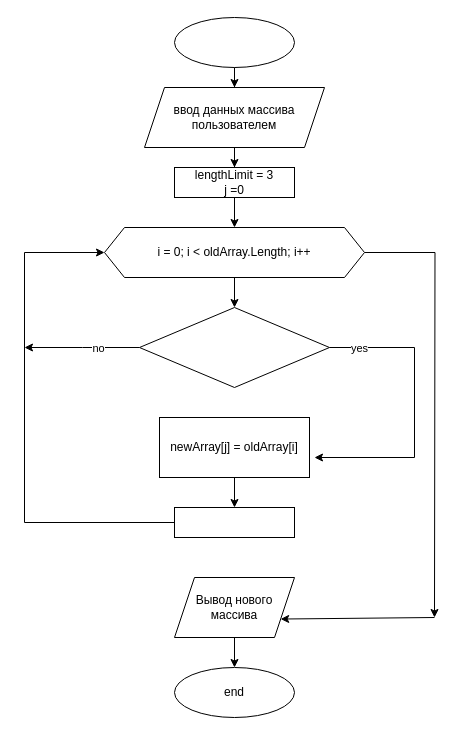
This 461x735 diagram has some shape labels left out. Each missing label, with the centre of its shape:
"j <= lengthLimit" goes at pixel 234 347.
"j++" goes at pixel 234 522.
"start" goes at pixel 234 42.
